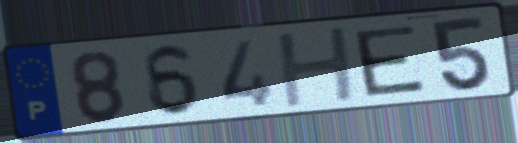4: (217, 37, 276, 109)
5: (427, 13, 493, 93)
6: (139, 41, 204, 119)
8: (67, 48, 129, 125)
E: (349, 22, 429, 99)
H: (273, 23, 361, 111)
